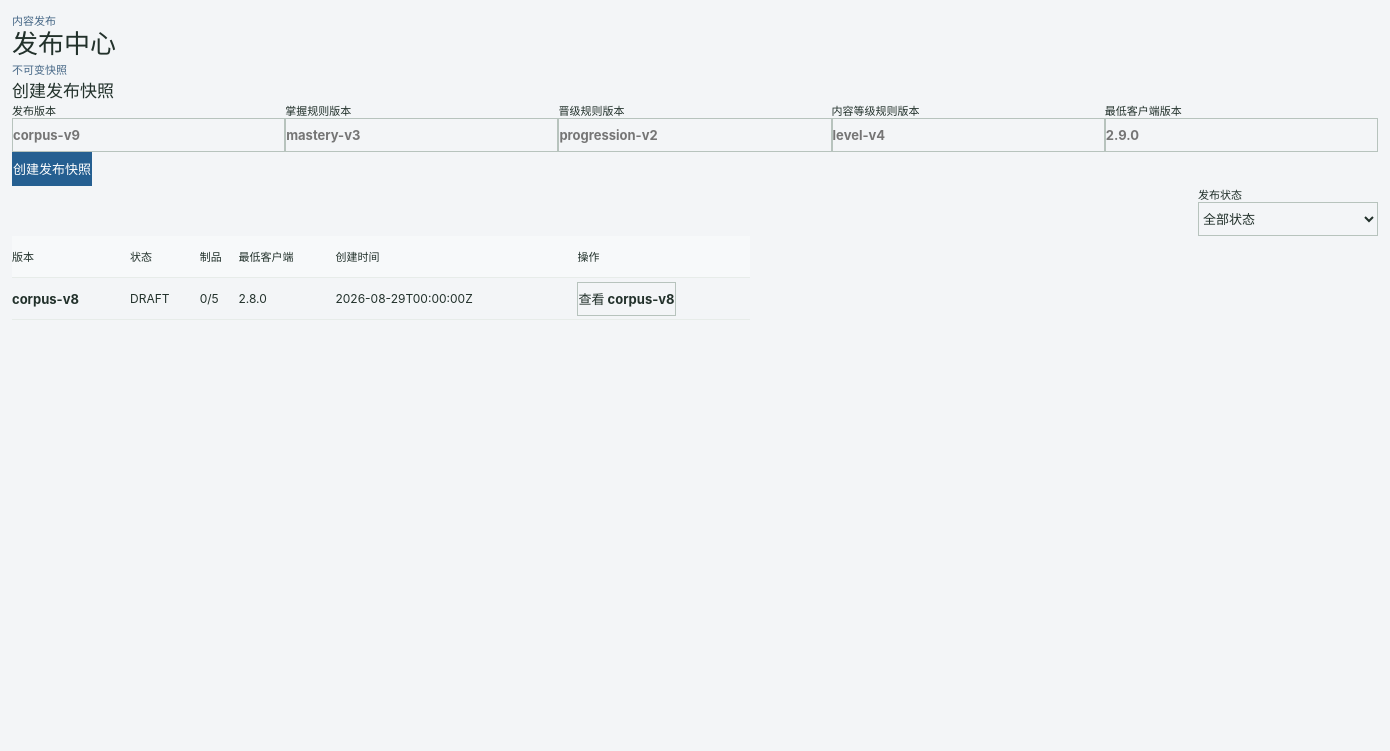
Scenario: ReleaseCenterPage › shows immutable content revisions and registered artifacts in detail
Expected: the text "corpus-v8" is shown, [12,278,130,320]
Click the button "查看 corpus-v8" at (626, 298), box [578,282,676,316]
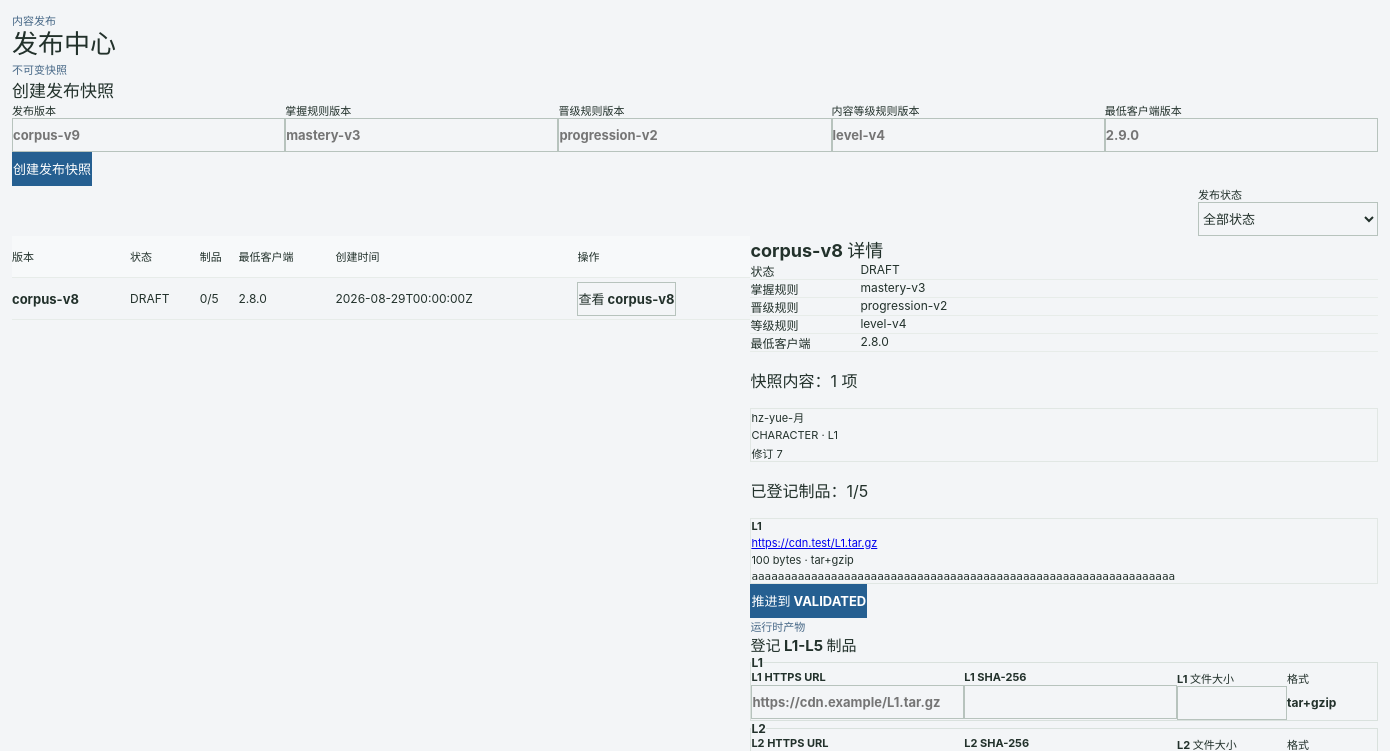
Result: the text "hz-yue-月" is shown at [751,410,804,424]
Result: the text "修订 7" is shown at [751,446,783,460]
Result: the link "https://cdn.test/L1.tar.gz" is shown at [751,536,877,550]
